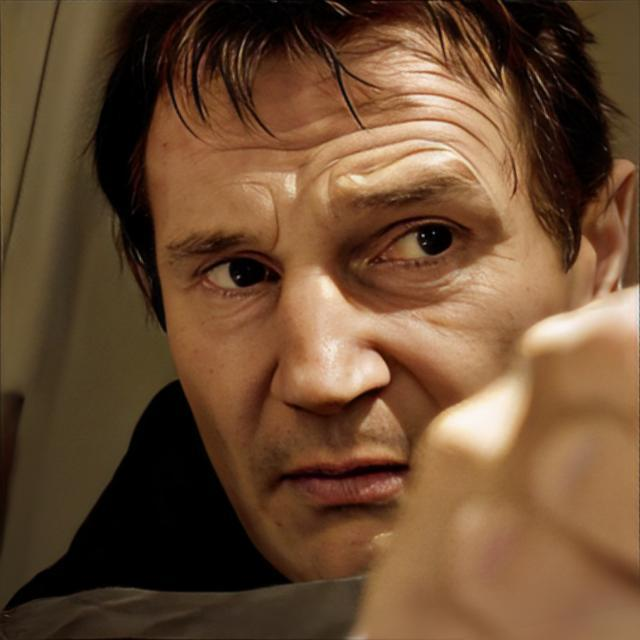disgust: (142, 21, 575, 586)
